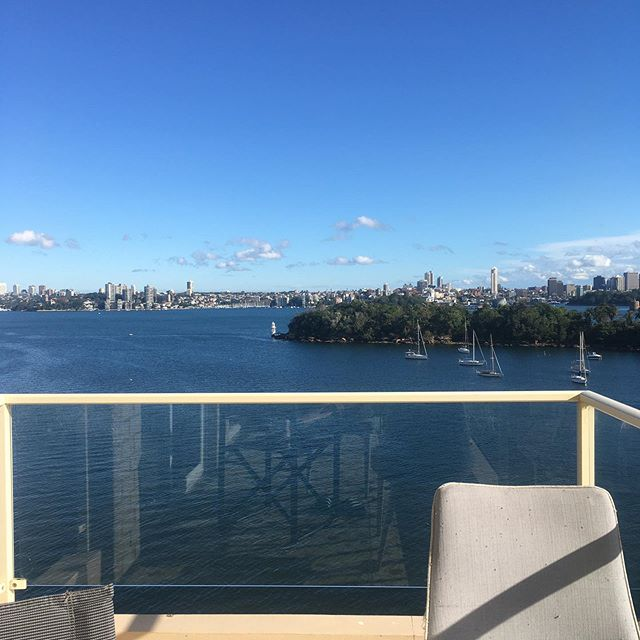boat: (479, 339, 502, 385), (461, 322, 484, 368), (404, 316, 427, 362), (571, 340, 594, 386)
river: (1, 306, 628, 588)
sky: (11, 1, 640, 280)
